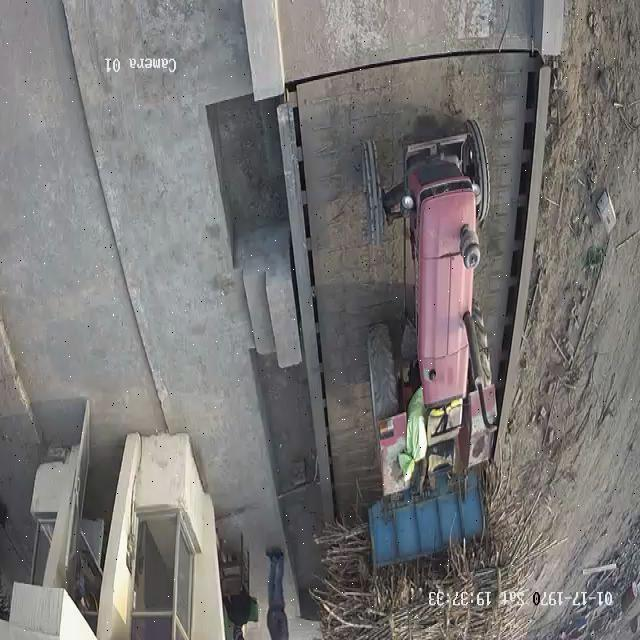Tratores - v5 YOLO V8L 2024-11-13: (359, 115, 495, 502)
